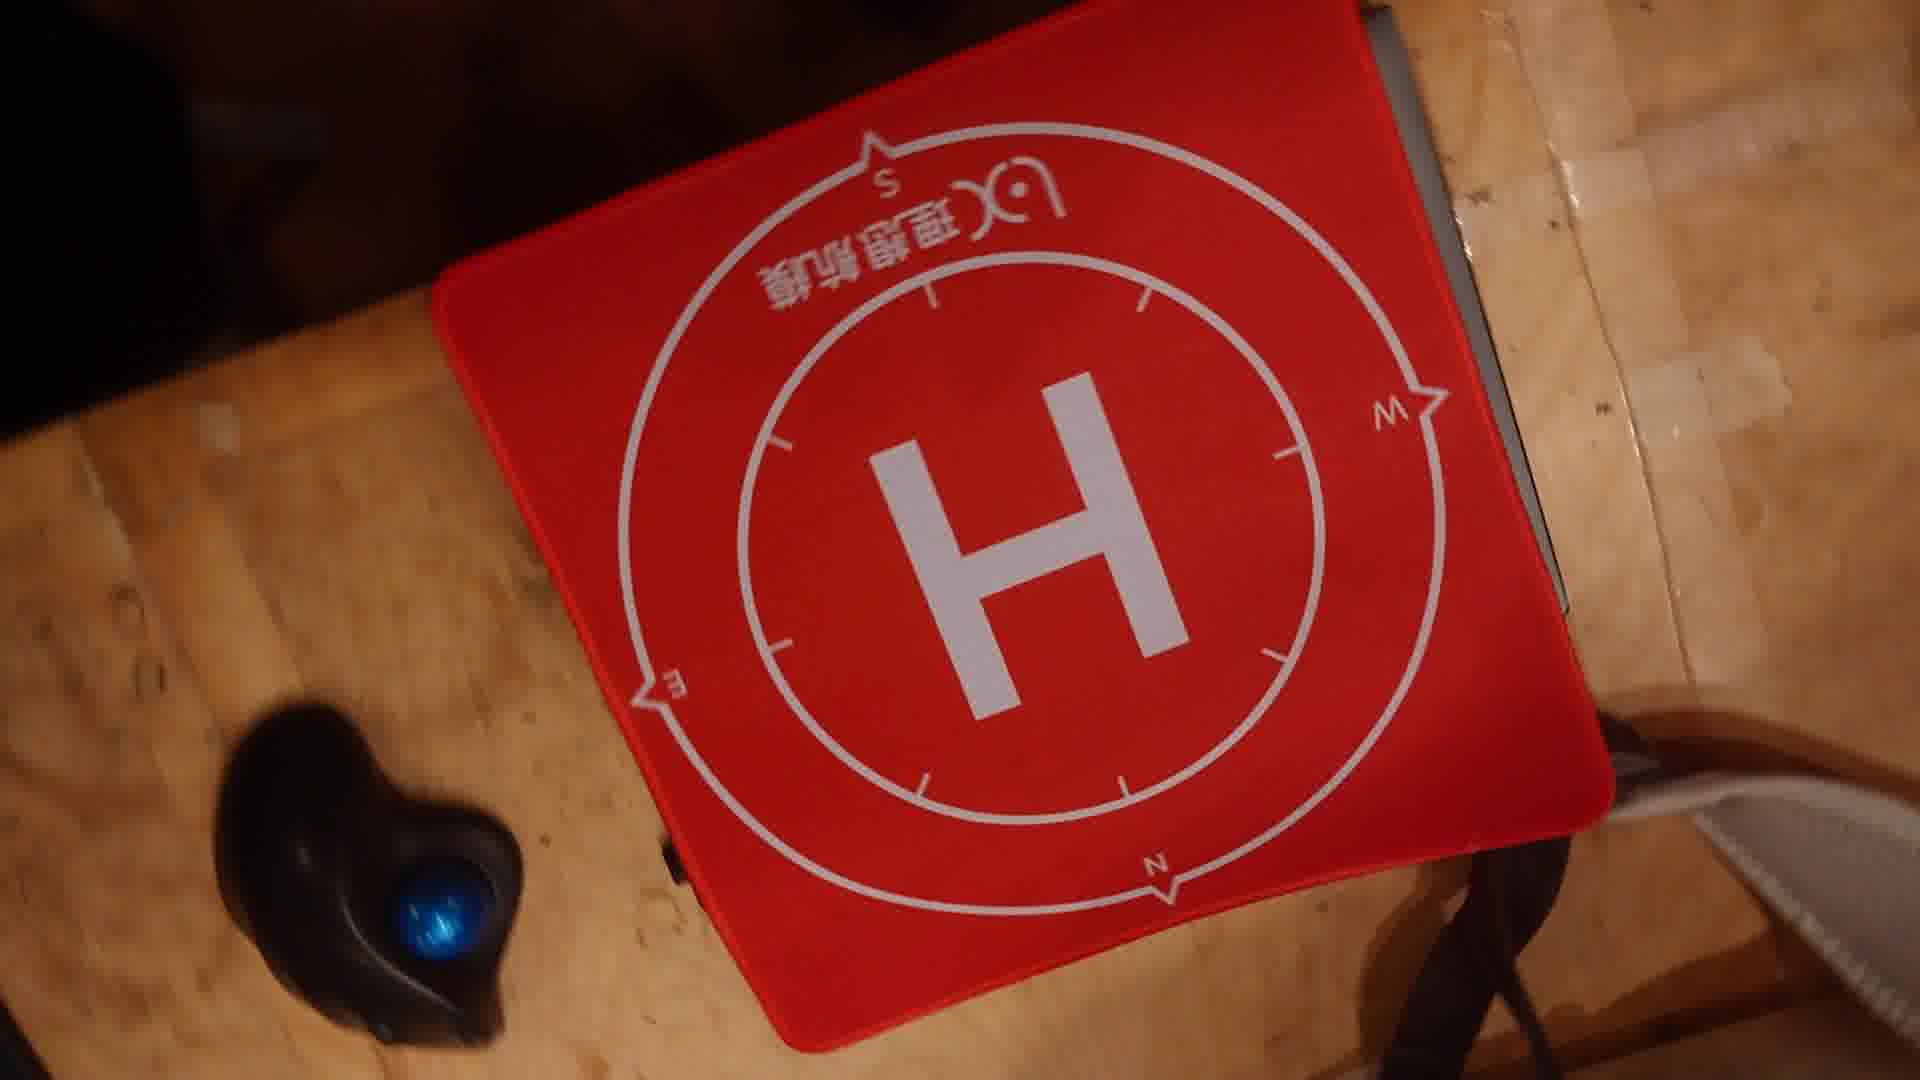H: (870, 375, 1195, 723)
